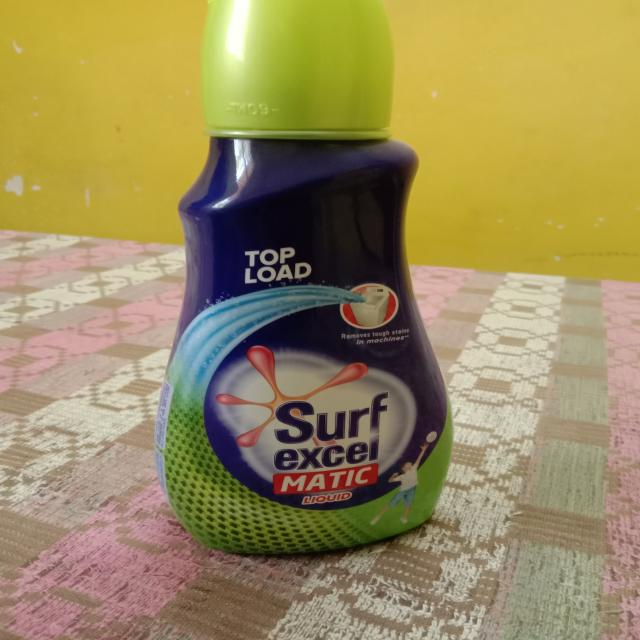detergent: (152, 0, 448, 559)
